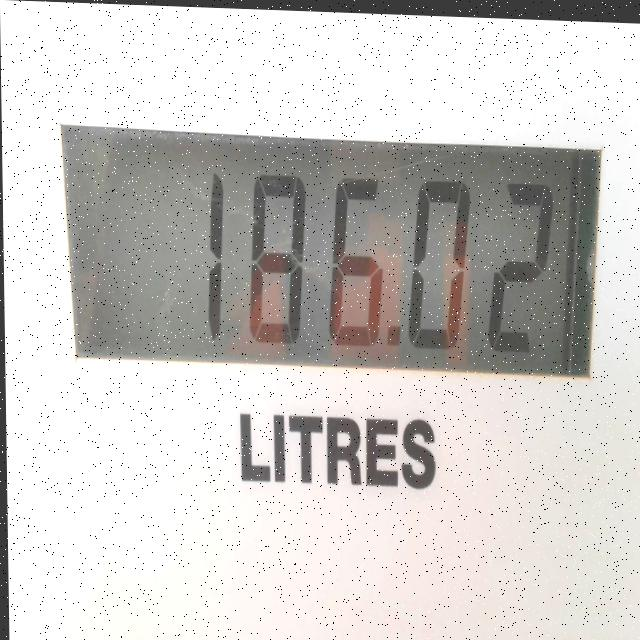.: (381, 316, 409, 356)
0: (395, 160, 475, 348)
1: (197, 151, 243, 356)
2: (482, 169, 554, 354)
6: (314, 161, 386, 347)
8: (240, 152, 309, 351)
